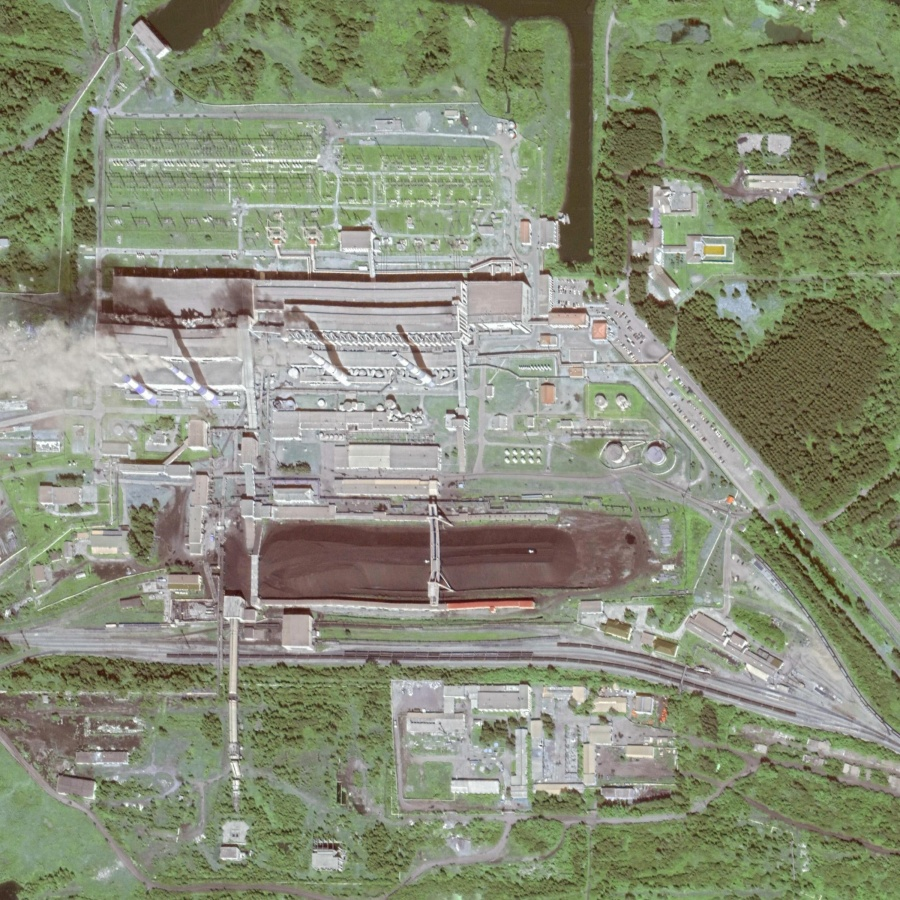PowerPlant: (71, 273, 670, 615)
